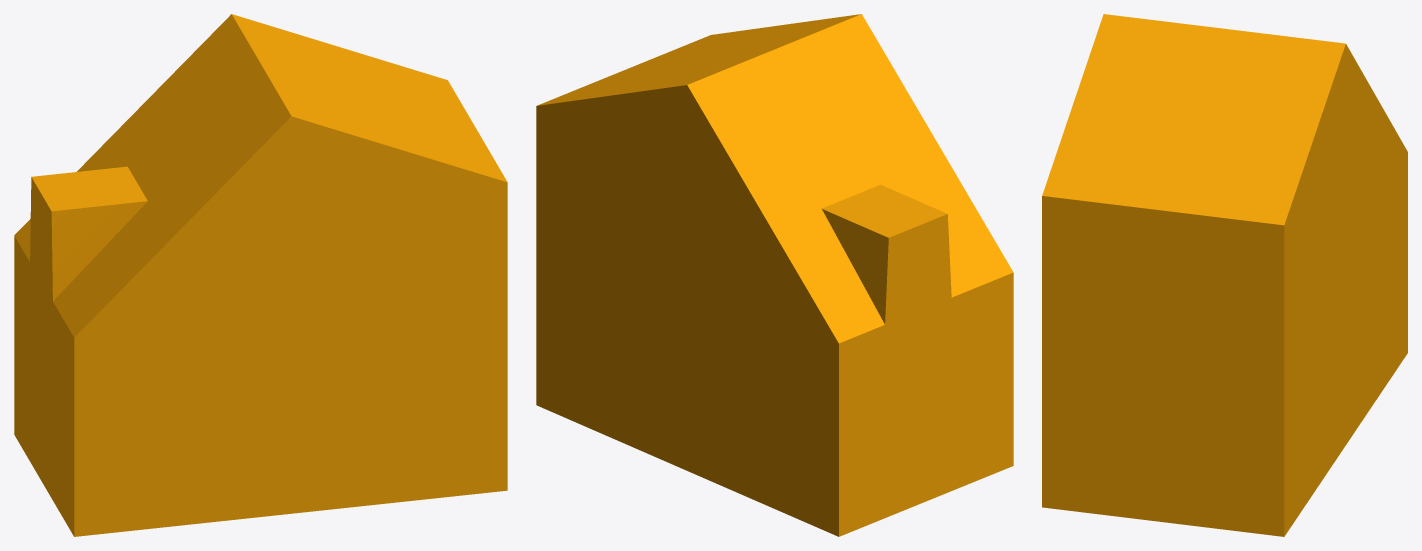
Rendered from DEHB01ALj0003AiM.gltf.
3 renders of one model, left to right at view 1: azimuth 30°, elevation 25°; view 2: azimuth 150°, elevation 25°; view 3: azimuth 270°, elevation 25°, orthographic. The views are drawn at different scales.
Visible parts, largest first — view 1: Z_UP; view 2: Z_UP; view 3: Z_UP.
Boxes of the visible parts, left/top/right/bottom form: Z_UP: left=14, top=14, right=507, bottom=536; Z_UP: left=536, top=14, right=1013, bottom=536; Z_UP: left=1042, top=14, right=1407, bottom=536.
Size of the model in its own units: 9.02 by 7.92 by 6.53.
